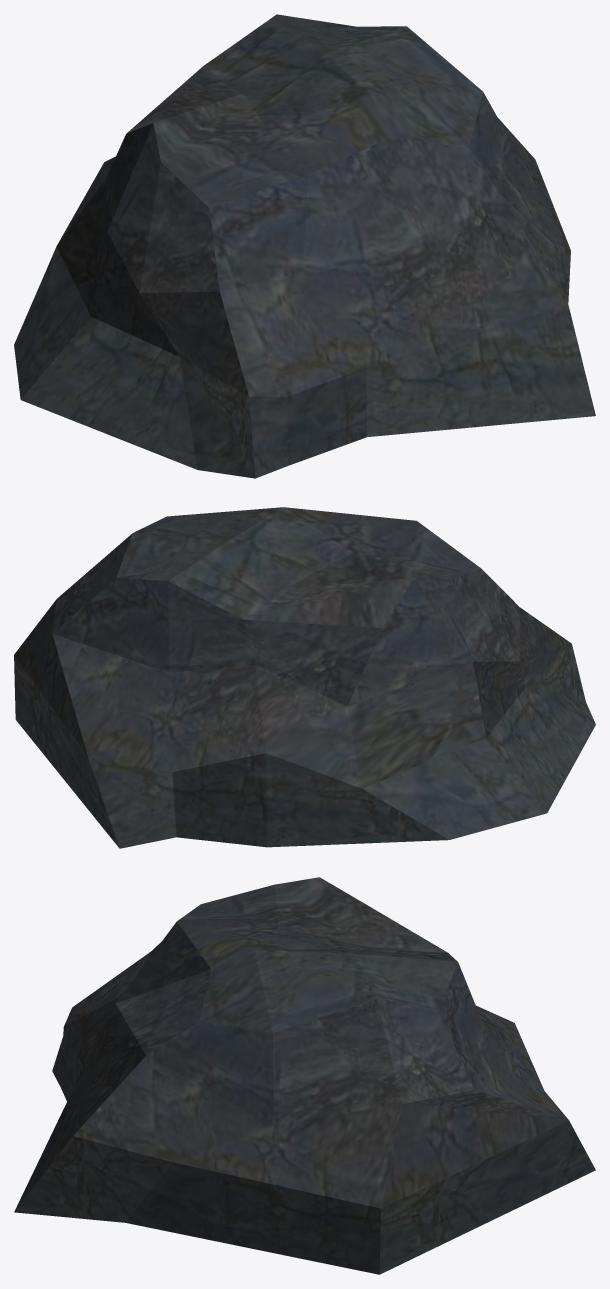
File: boulder3.glb
3 renders of one model, top to bottom at view 1: azimuth 30°, elevation 25°; view 2: azimuth 150°, elevation 25°; view 3: azimuth 270°, elevation 25°, orthographic. The views are drawn at different scales.
Parts seen in each view (by area): view 1: Cube; view 2: Cube; view 3: Cube.
Part boxes in pixels (x1=…): Cube: x1=14, y1=14, x2=595, y2=478; Cube: x1=14, y1=507, x2=595, y2=848; Cube: x1=14, y1=877, x2=595, y2=1274.
Bounding box in the file's own units: 1.19 × 0.5022 × 1.19.
Materials: 1 (1 with a texture image).
